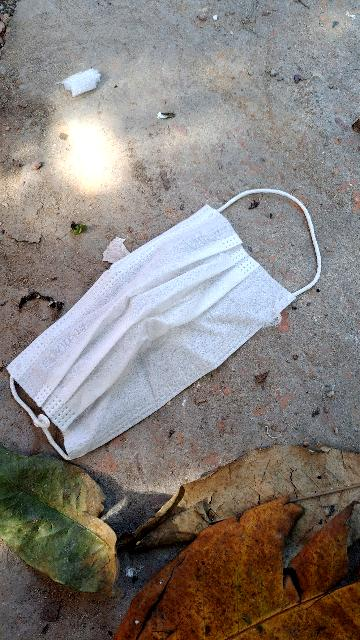mask: (0, 179, 318, 477)
